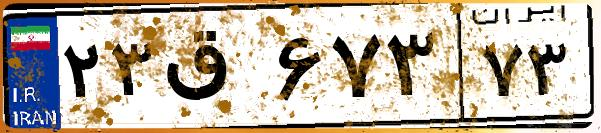2: (57, 26, 110, 100)
3: (385, 28, 445, 110), (525, 38, 570, 115), (110, 28, 158, 98)
6: (270, 28, 330, 110)
7: (330, 28, 385, 110), (475, 38, 525, 113)
ق: (158, 20, 270, 120)
